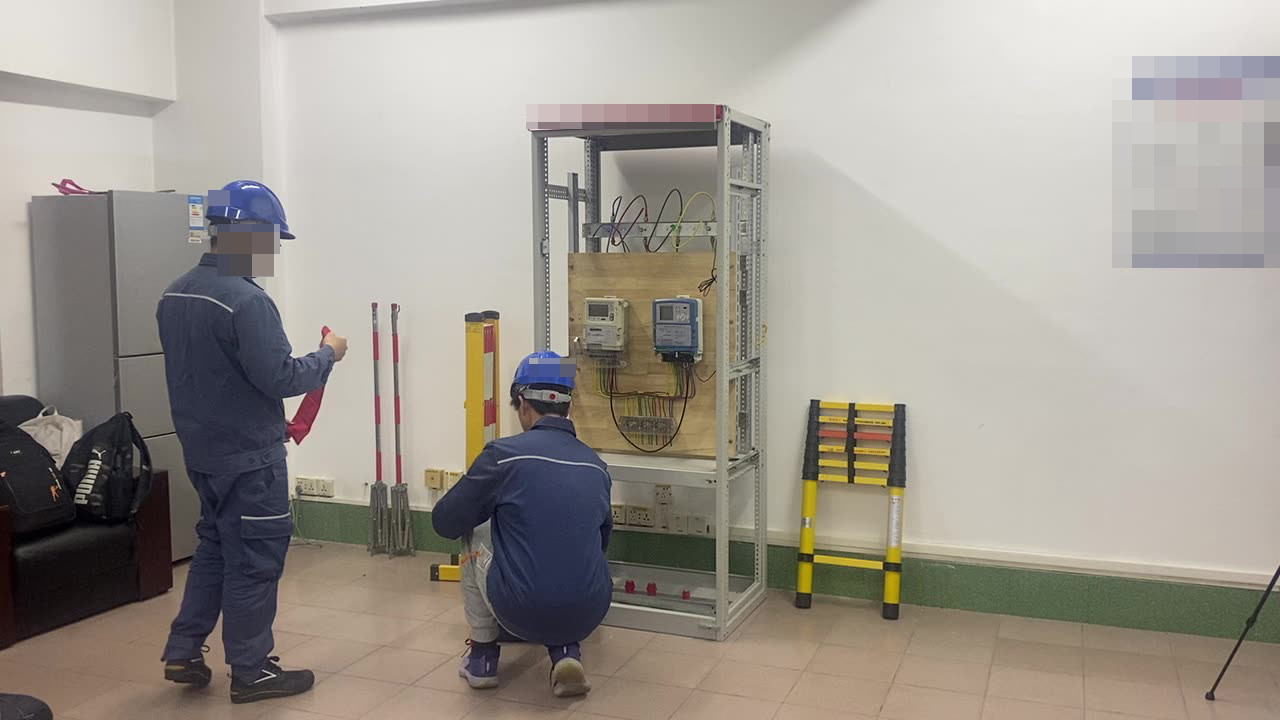downcloth: (456, 512, 501, 642)
downsuit: (166, 474, 299, 668)
halt: (203, 179, 293, 274), (509, 349, 578, 419)
hand: (321, 331, 349, 362)
inear: (234, 225, 271, 262)
noear: (510, 394, 530, 420)
person: (155, 181, 346, 696), (428, 349, 617, 702)
upsuit: (436, 422, 615, 632), (156, 255, 335, 463)
